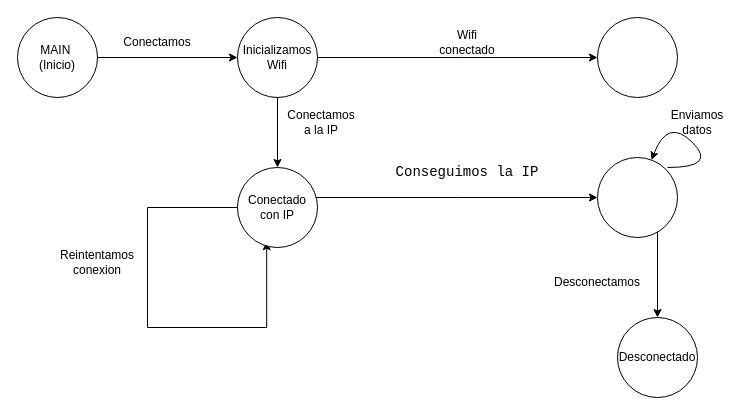
Image size: 745x415. Some labels were removed from this diagram. The shapes that lost their labels are listed below. From the top down, each one's centre as x and y in pixels, then its label:
At pixel 637 57: "Wifi Completado".
At pixel 637 197: "Conseguimos IP".
